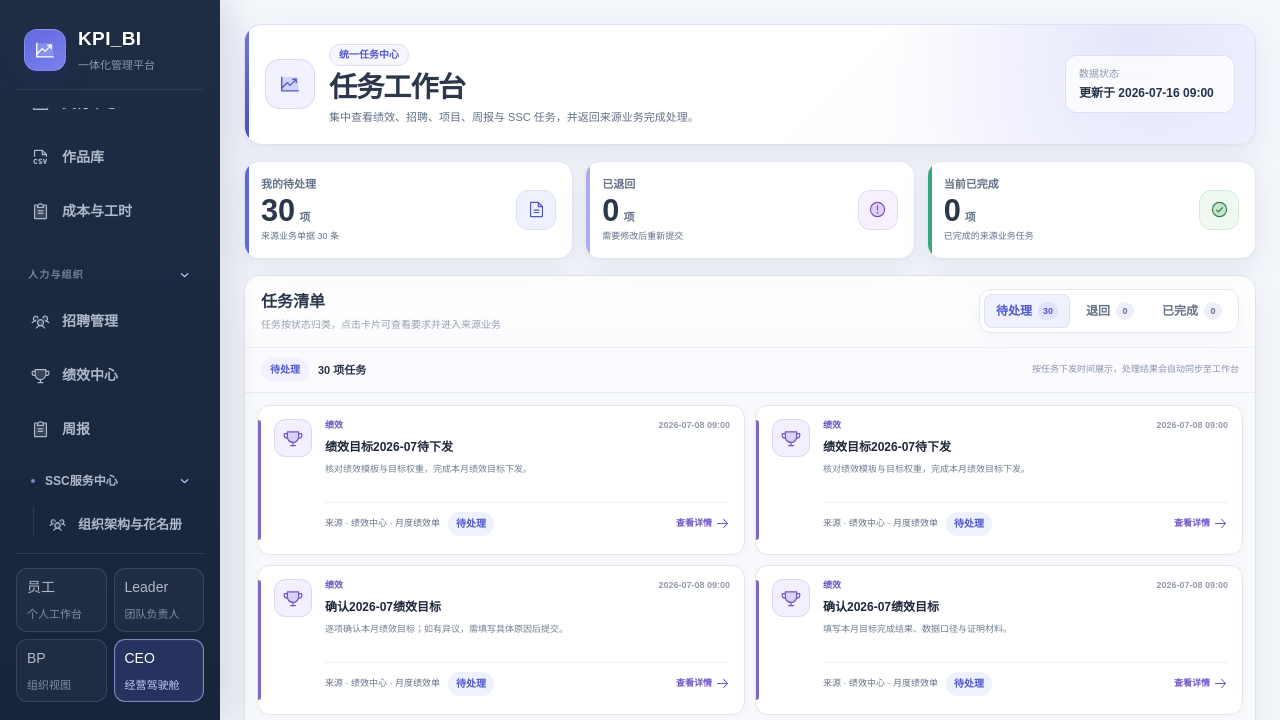
KPI_BI 一体化管理平台 › 切换角色后按权限更新导航与工作台待办范围
The width and height of the screenshot is (1280, 720).
(page scrolled)
Step 1. Click the button "招聘管理" → coordinates (110, 322), box [16,296,204,346]
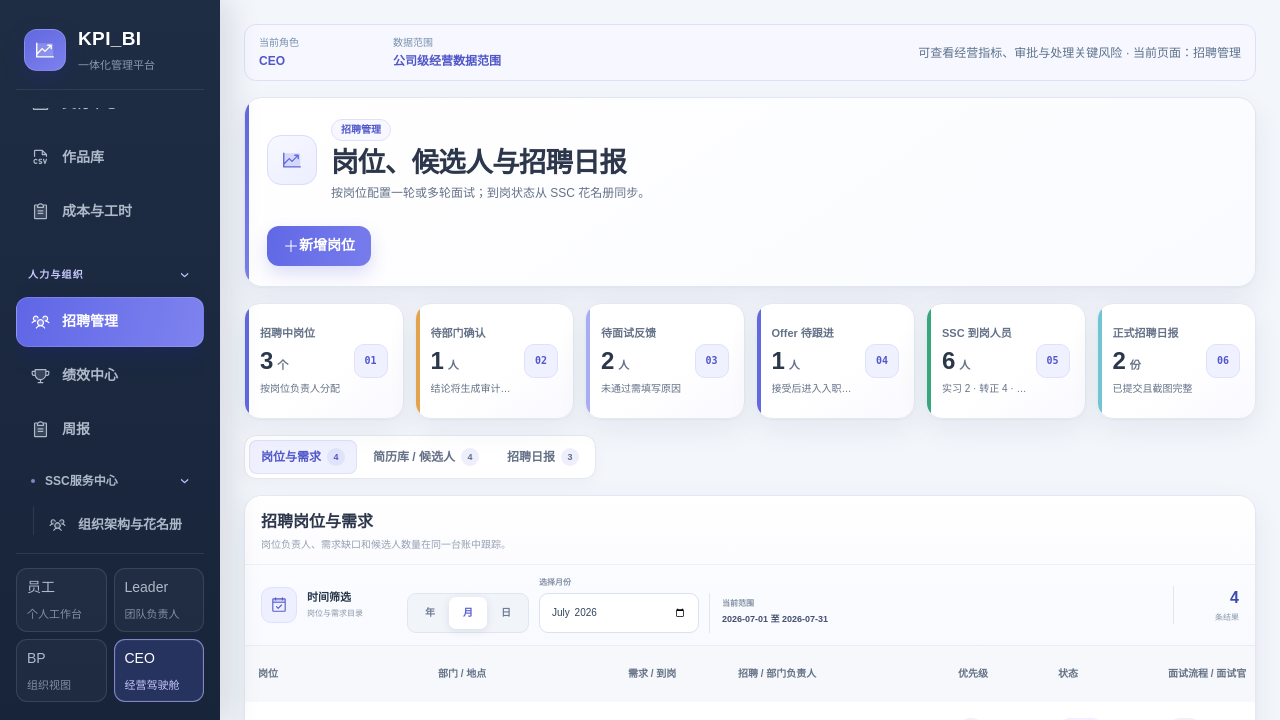
Step 2. Click the button "员工 个人工作台" → coordinates (61, 600), box [16,568,106,632]
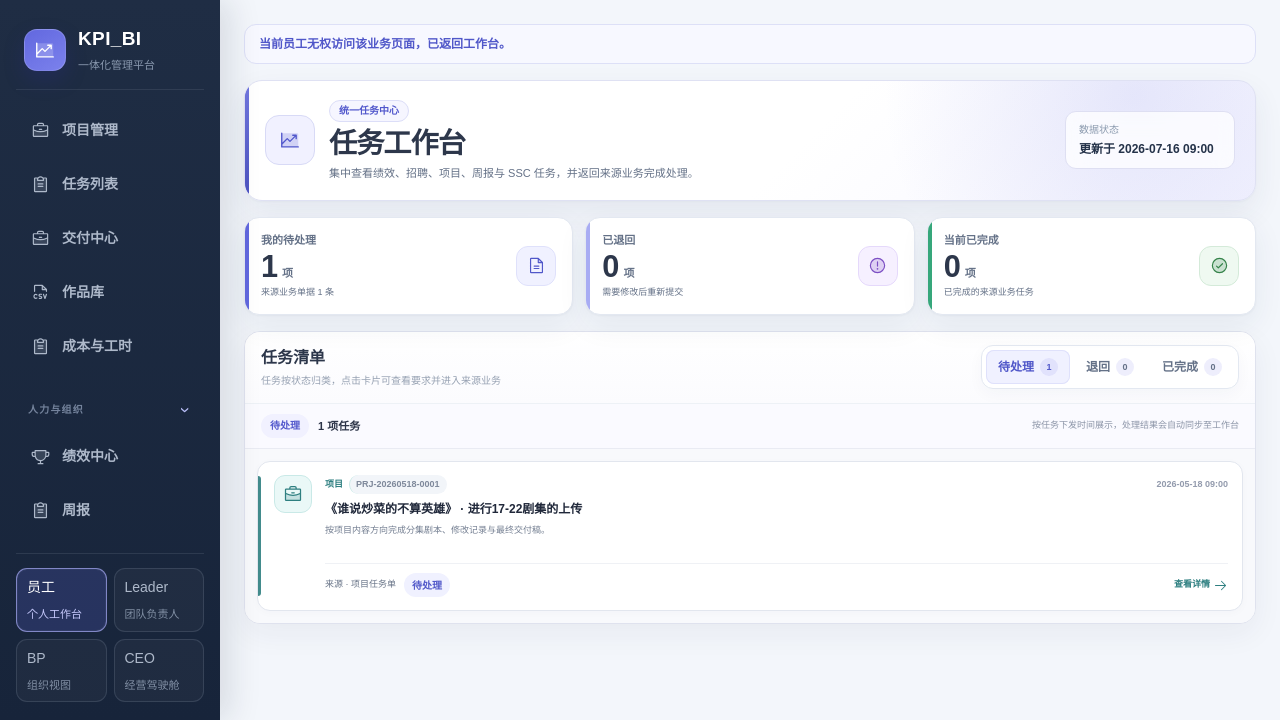
Expected: the button "招聘管理" is gone
Expected: the text "《谁说炒菜的不算英雄》 · 进行17-22剧集的上传" is shown, [325,502,582,516]
Expected: the message shows "无权访问", [259,37,511,51]
